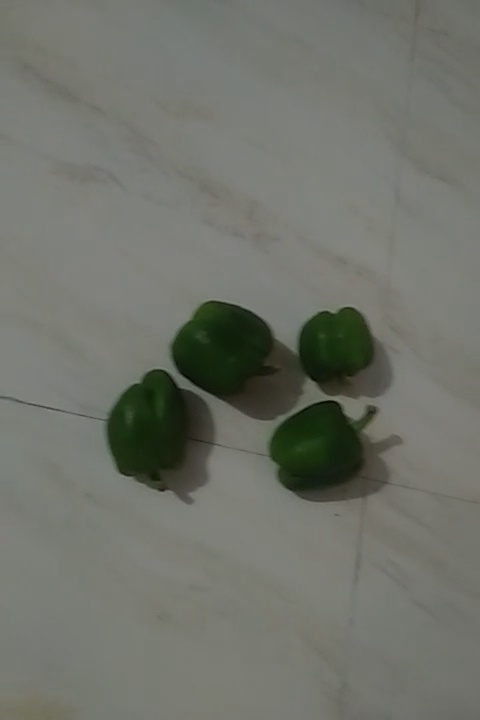capsicum: (173, 296, 277, 391), (279, 401, 382, 492), (113, 370, 191, 482), (289, 303, 380, 383)
